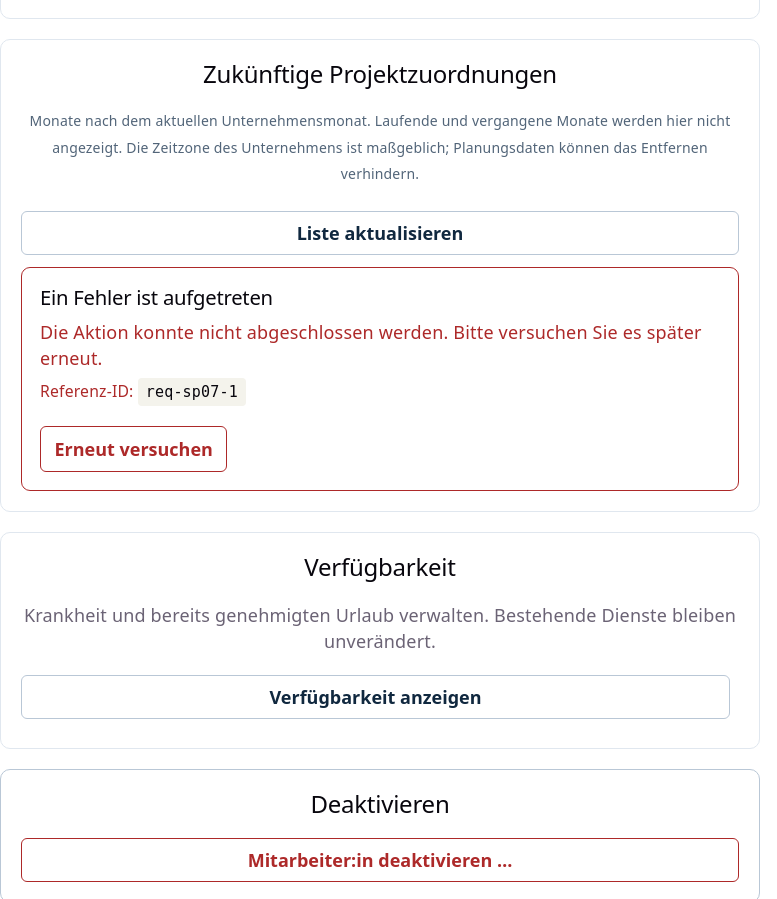
Test case: S-9 operational employee detail › shows a retryable list error without claiming empty or issuing writes
(page scrolled)
Expected: the heading "Zukünftige Projektzuordnungen" is shown, left=203, top=57, right=557, bottom=90
Expected: the message is shown, left=21, top=267, right=739, bottom=491
Click the button "Erneut versuchen": click(134, 449) left=40, top=426, right=227, bottom=472
(page scrolled)
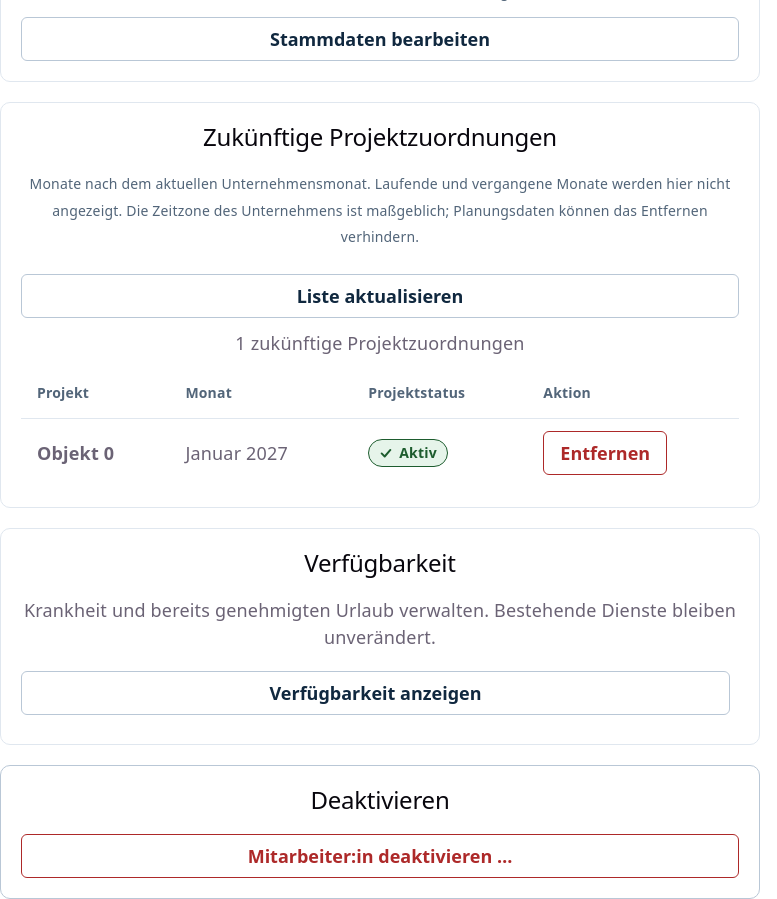
Expected: the column heading "Objekt 0" is shown, left=21, top=418, right=169, bottom=487
